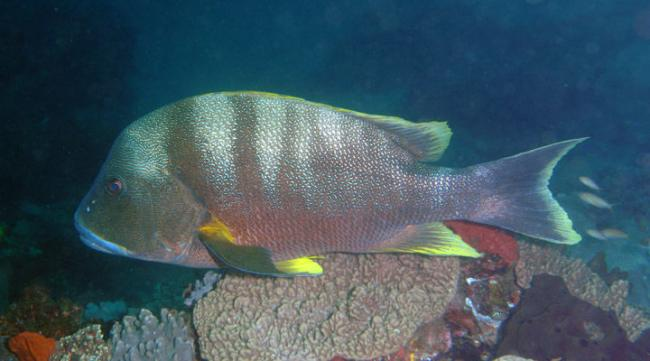fish: (73, 90, 592, 278)
